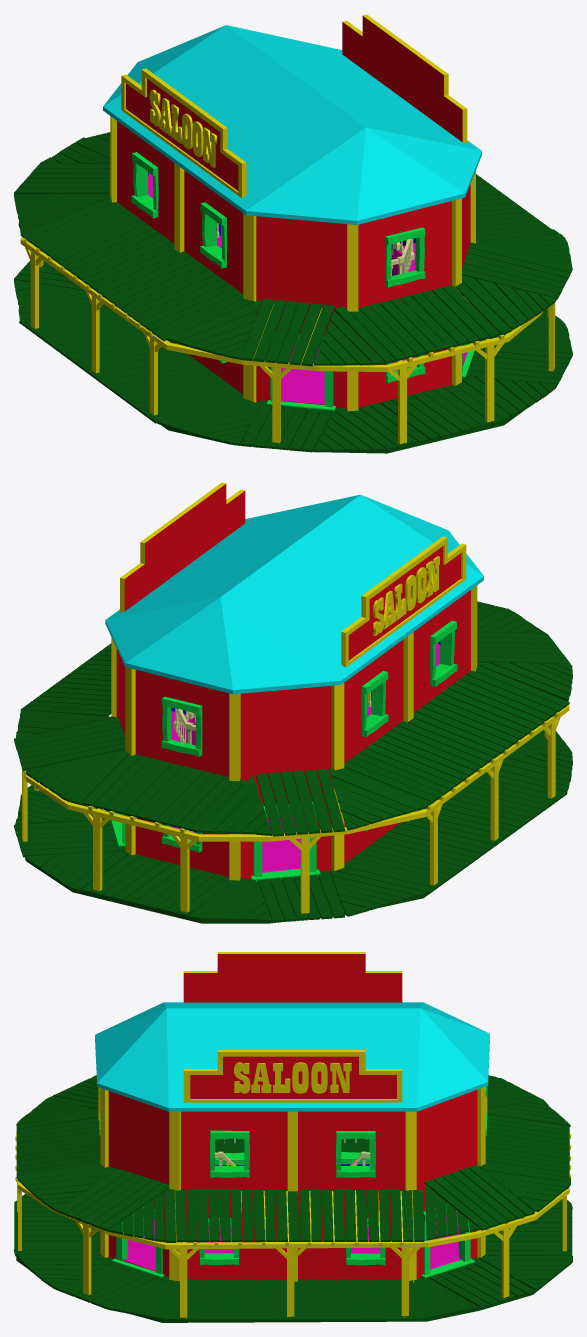
Rendered from Saloon.fbx.
3 views of the same model, one above another, from view 1: azimuth 30°, elevation 25°; view 2: azimuth 150°, elevation 25°; view 3: azimuth 270°, elevation 25° (orthographic). The views are drawn at different scales.
Visible parts, largest first — view 1: Plane; view 2: Plane; view 3: Plane.
Boxes of the visible parts, <box> form: Plane: <box>14,14,572,453</box>; Plane: <box>14,482,572,923</box>; Plane: <box>14,952,572,1322</box>.
Bounding box in the file's own units: 1818 × 1094 × 2370.
